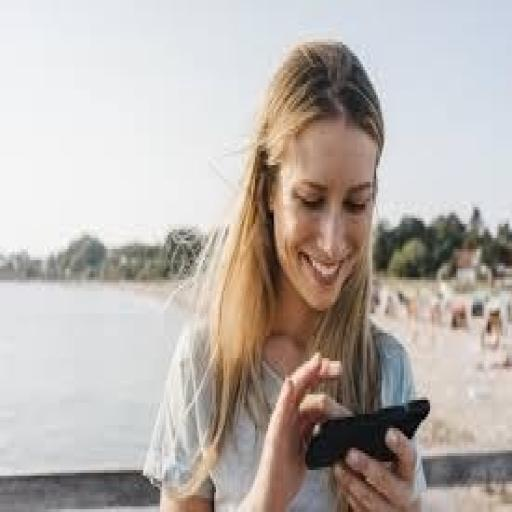texting: (142, 36, 430, 510)
